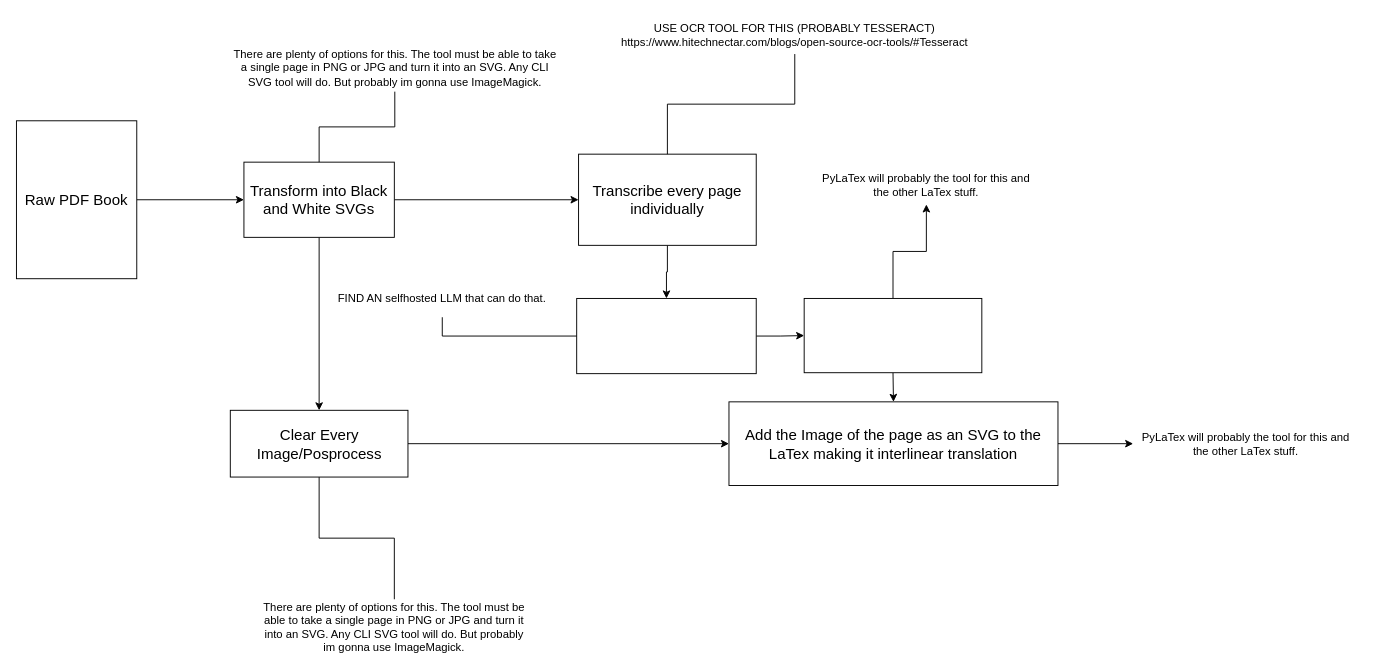
Some shapes in this 1375 by 671 pixel diagram are drawn without their labels. The shapes that lost their labels are listed below. From the top down, each one's box as (x1, y1, x2, y2) in pixels, then its label:
(576, 298, 756, 374): Translate Every Page individually
(803, 298, 982, 373): Format to LaTex
